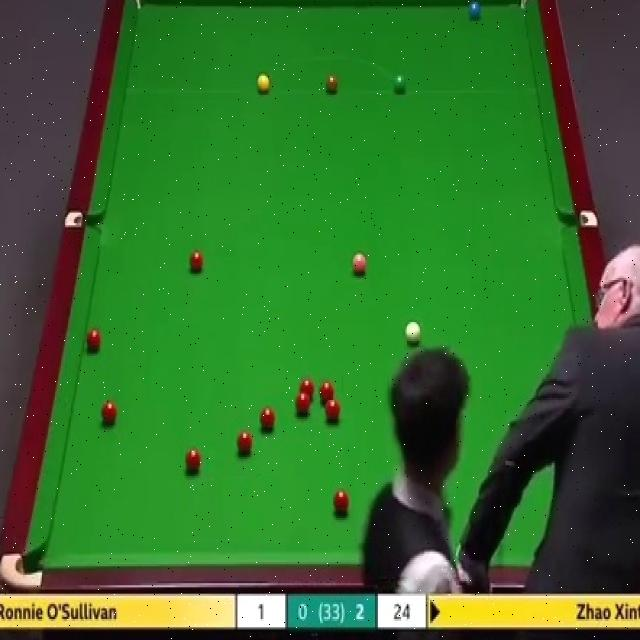blue-ball: (468, 1, 481, 23)
brown-ball: (326, 74, 339, 94)
green-ball: (392, 74, 408, 96)
pink-ball: (351, 250, 367, 279)
red-ball: (236, 429, 253, 456), (318, 378, 335, 404), (85, 328, 102, 353), (185, 446, 200, 474), (259, 405, 275, 431), (326, 397, 340, 426), (333, 489, 349, 514), (300, 377, 314, 404), (102, 400, 116, 425), (189, 248, 203, 273), (296, 392, 310, 414)
white-ball: (406, 321, 420, 345)
yellow-ball: (256, 73, 272, 94)
